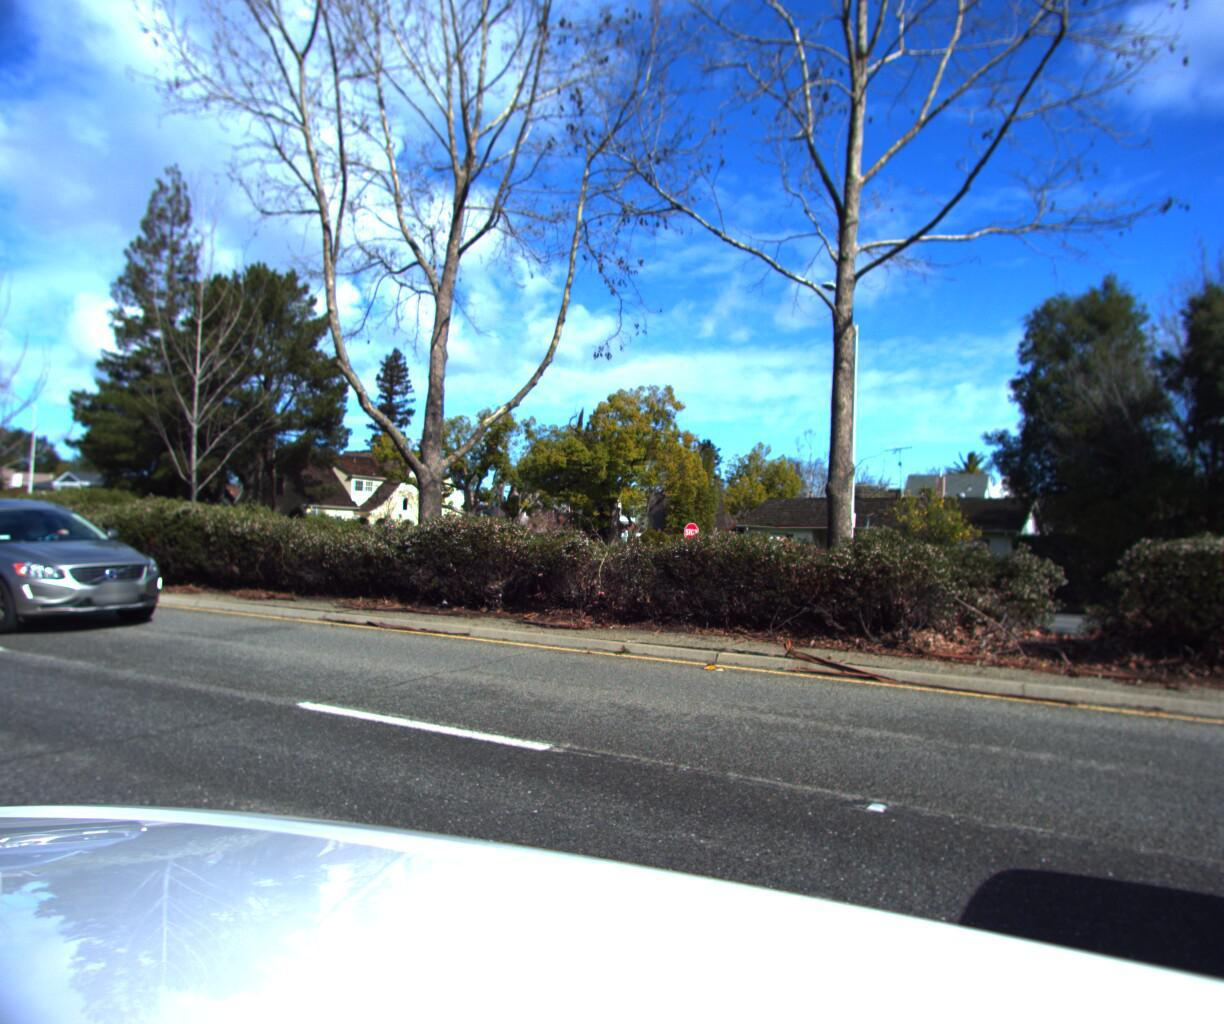car: (0, 496, 189, 648)
